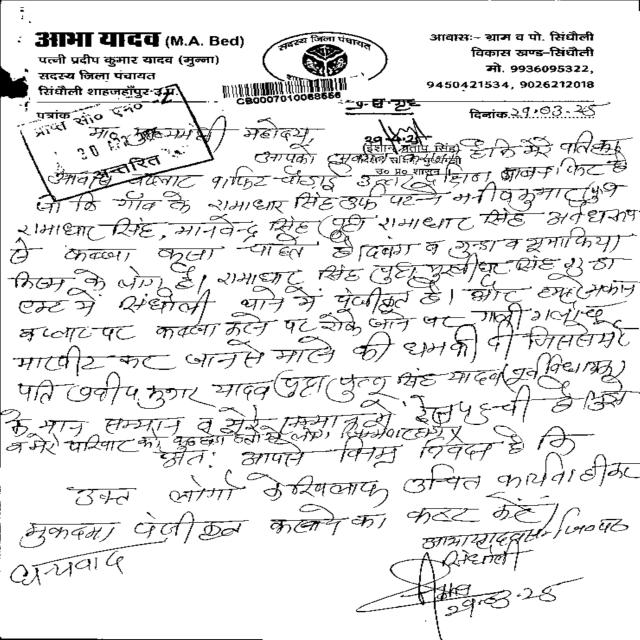barcode: (224, 77, 355, 107)
govtstamp: (20, 86, 214, 200)
logo: (260, 30, 391, 80)
